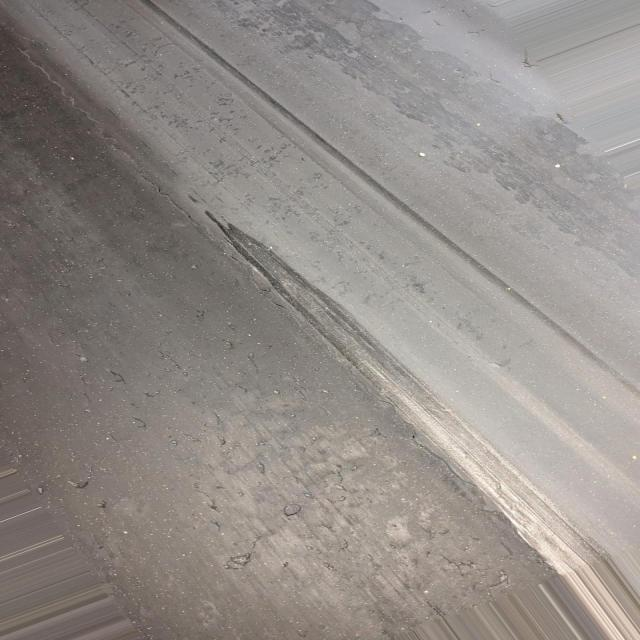Wear: (185, 196, 600, 580)
